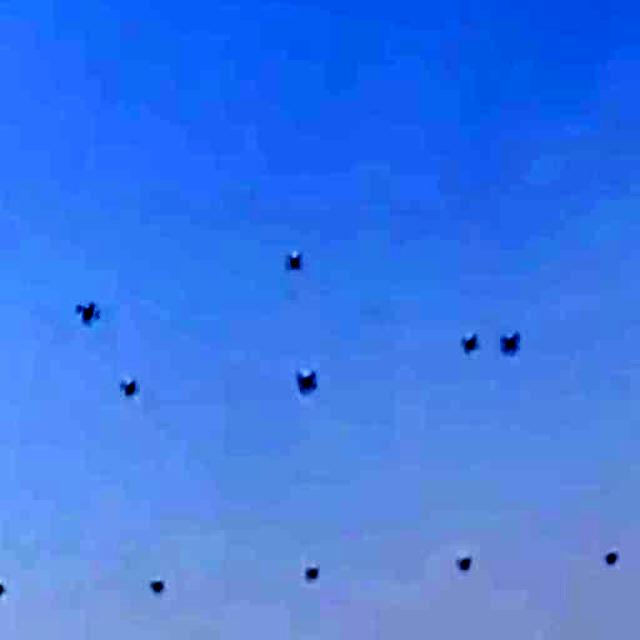bird: (60, 264, 111, 336), (101, 360, 152, 424), (280, 344, 330, 402), (139, 564, 174, 622), (292, 555, 346, 591), (279, 235, 316, 279), (492, 322, 528, 362), (449, 549, 481, 591), (0, 566, 8, 604)
